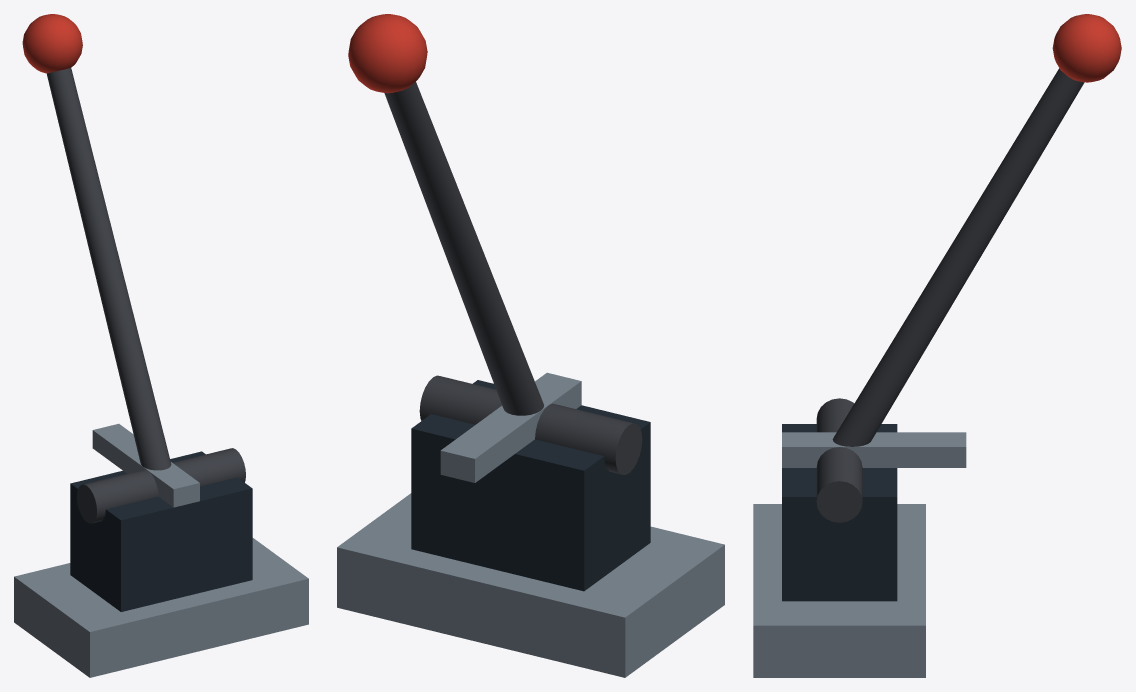
File: floor-lever-lod0.glb
3 views of the same model, side by side, from view 1: azimuth 30°, elevation 25°; view 2: azimuth 150°, elevation 25°; view 3: azimuth 270°, elevation 25° (orthographic). The views are drawn at different scales.
Visible parts, largest first — view 1: base-plate, housing, arm-rod, pivot-pin, slot-guard, arm-knob; view 2: base-plate, housing, arm-rod, pivot-pin, slot-guard, arm-knob; view 3: base-plate, arm-rod, housing, slot-guard, pivot-pin, arm-knob.
Boxes of the visible parts, box(x1,y1,x2,y2) form: base-plate: box(14, 538, 308, 677); housing: box(70, 451, 252, 611); arm-rod: box(46, 67, 171, 470); pivot-pin: box(77, 448, 245, 523); slot-guard: box(92, 423, 199, 507); arm-knob: box(22, 14, 82, 73); base-plate: box(337, 493, 724, 677); housing: box(411, 380, 650, 591); arm-rod: box(384, 82, 543, 415); pivot-pin: box(419, 375, 642, 474); slot-guard: box(440, 372, 581, 482); arm-knob: box(348, 14, 427, 93); base-plate: box(753, 504, 925, 677); arm-rod: box(832, 68, 1084, 446); housing: box(782, 424, 897, 601); slot-guard: box(782, 432, 966, 467); pivot-pin: box(816, 398, 862, 522); arm-knob: box(1052, 14, 1121, 82).
Size of the model in its own units: 0.5 by 1.15 by 0.64.
